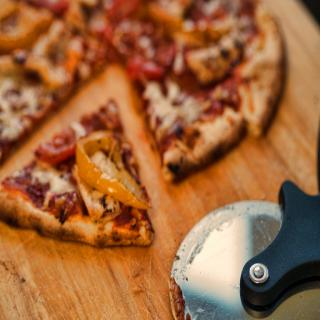Pizza: (0, 0, 292, 188), (1, 87, 171, 251)
